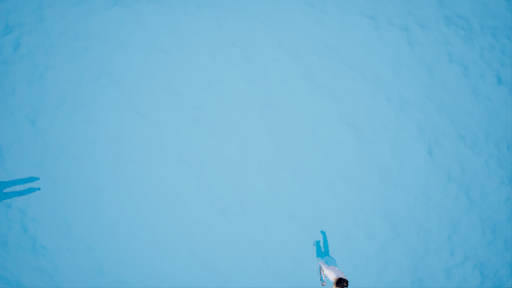person: (298, 225, 359, 288)
